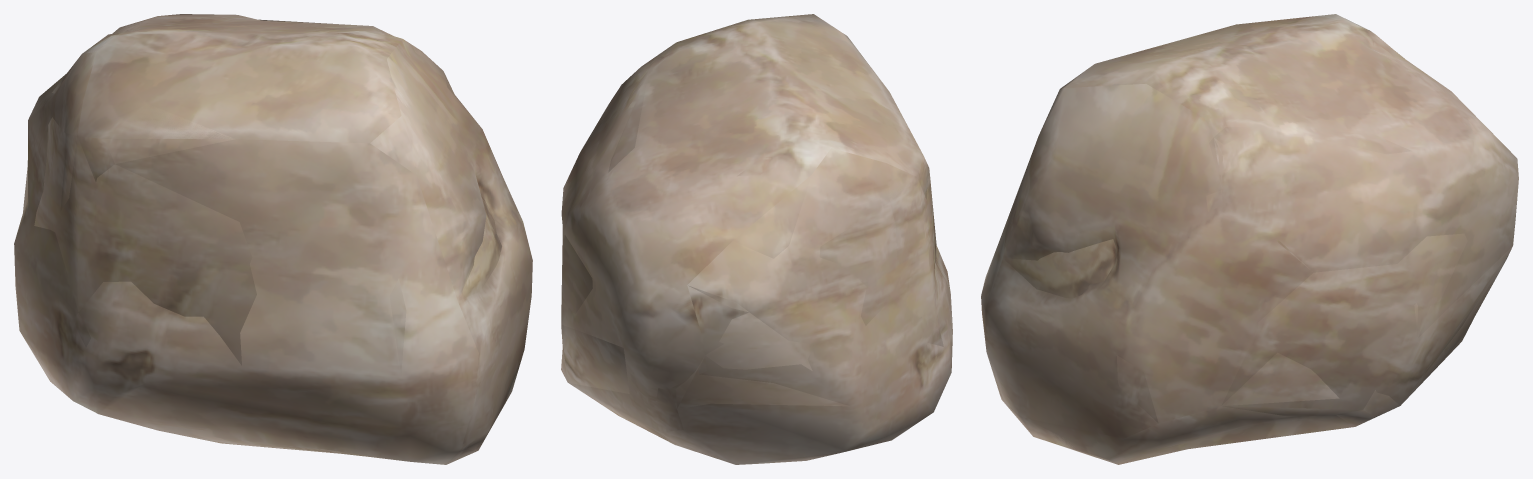
File: Stone_1.FBX
The picture shows the model from 3 angles, left to right: view 1: azimuth 30°, elevation 25°; view 2: azimuth 150°, elevation 25°; view 3: azimuth 270°, elevation 25°; orthographic projection. The views are drawn at different scales.
Parts seen in each view (by area): view 1: Stone_1, Stone_1_Lod; view 2: Stone_1, Stone_1_Lod; view 3: Stone_1, Stone_1_Lod.
Boxes of the visible parts, left/top/right/bottom form: Stone_1: left=14, top=14, right=532, bottom=464; Stone_1_Lod: left=23, top=19, right=501, bottom=457; Stone_1: left=561, top=14, right=952, bottom=464; Stone_1_Lod: left=561, top=54, right=943, bottom=409; Stone_1: left=981, top=14, right=1518, bottom=464; Stone_1_Lod: left=1003, top=42, right=1512, bottom=453.
Bounding box in the file's own units: 0.7691 × 0.572 × 0.6237.
